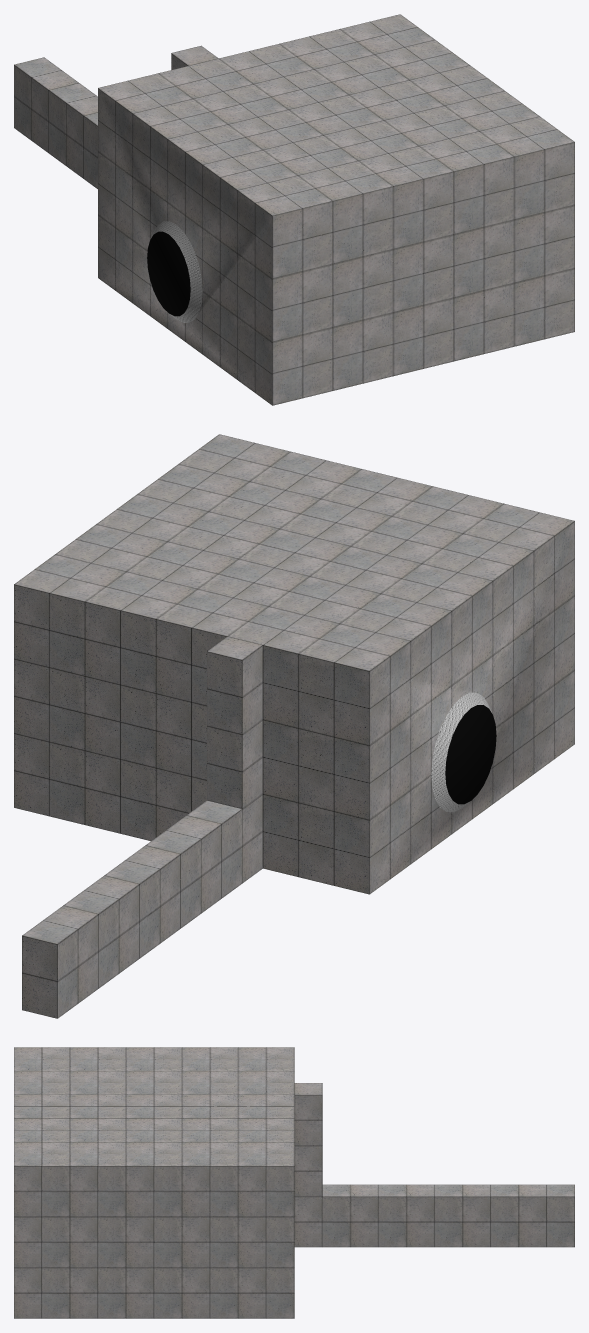
Rendered from PlayUpGrp1.dae.
The picture shows the model from 3 angles, top to bottom: view 1: azimuth 30°, elevation 25°; view 2: azimuth 150°, elevation 25°; view 3: azimuth 270°, elevation 25°; orthographic projection. The views are drawn at different scales.
Parts seen in each view (by area): view 1: mesh0%root%0%, mesh0%root%2%, mesh0%root%1%; view 2: mesh0%root%0%, mesh0%root%2%, mesh0%root%1%; view 3: mesh0%root%0%.
Boxes of the visible parts, x1,y1,x2,y2 form: mesh0%root%0%: (14,14,574,405); mesh0%root%2%: (147,231,190,316); mesh0%root%1%: (151,221,202,322); mesh0%root%0%: (14,434,574,1018); mesh0%root%2%: (445,705,496,804); mesh0%root%1%: (431,692,492,812); mesh0%root%0%: (14,1047,574,1318).
Size of the model in its own units: 10.25 by 6 by 20.
